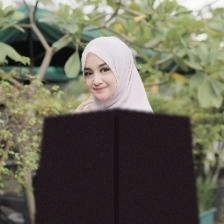Cadar_Niqab: (33, 33, 199, 224)
